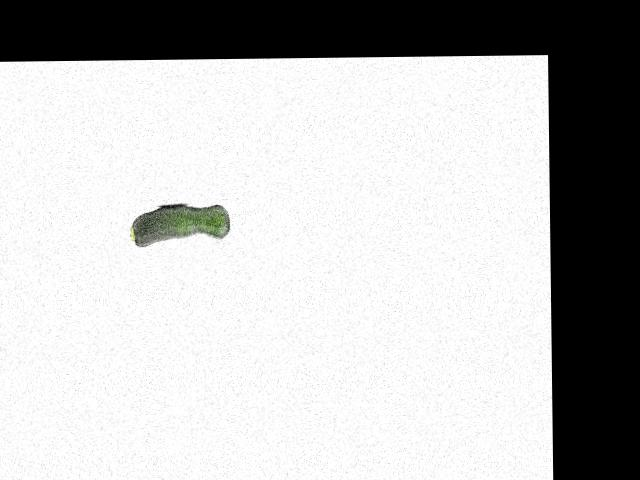cucumber: (129, 204, 229, 247)
